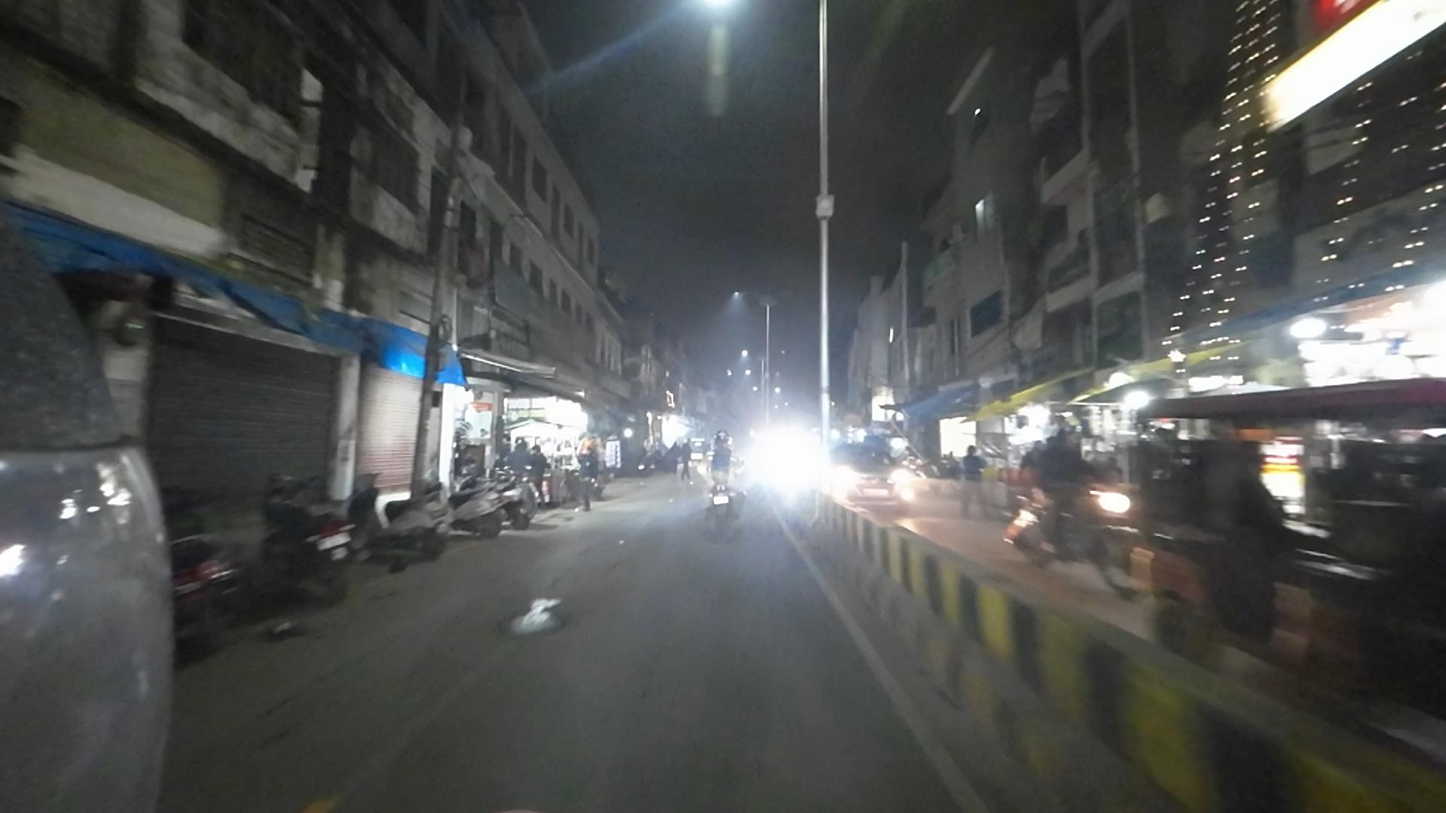streetlight: (776, 285, 797, 302)
